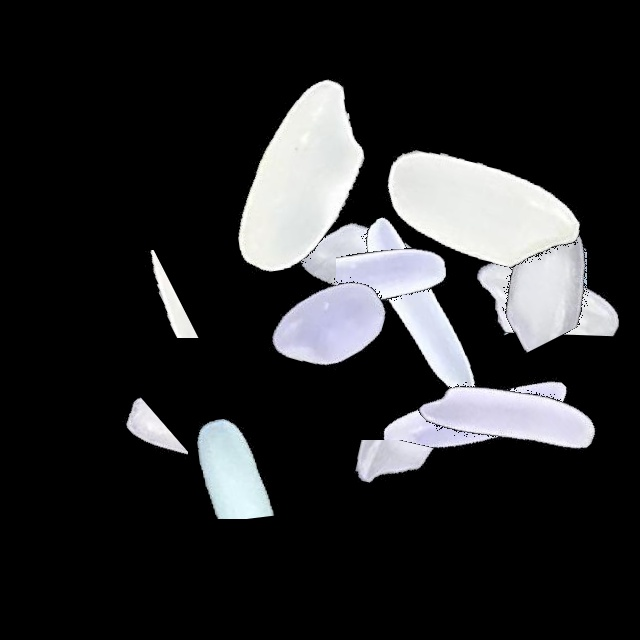Broken: (449, 129, 617, 379), (475, 133, 626, 383), (454, 128, 587, 378), (336, 154, 467, 404), (109, 389, 359, 519), (267, 440, 517, 549), (83, 346, 188, 596), (2, 250, 252, 338)
Full: (240, 137, 490, 387), (292, 184, 542, 434), (171, 49, 421, 299), (349, 289, 599, 539), (206, 196, 456, 446), (358, 88, 608, 338), (383, 296, 633, 546)
